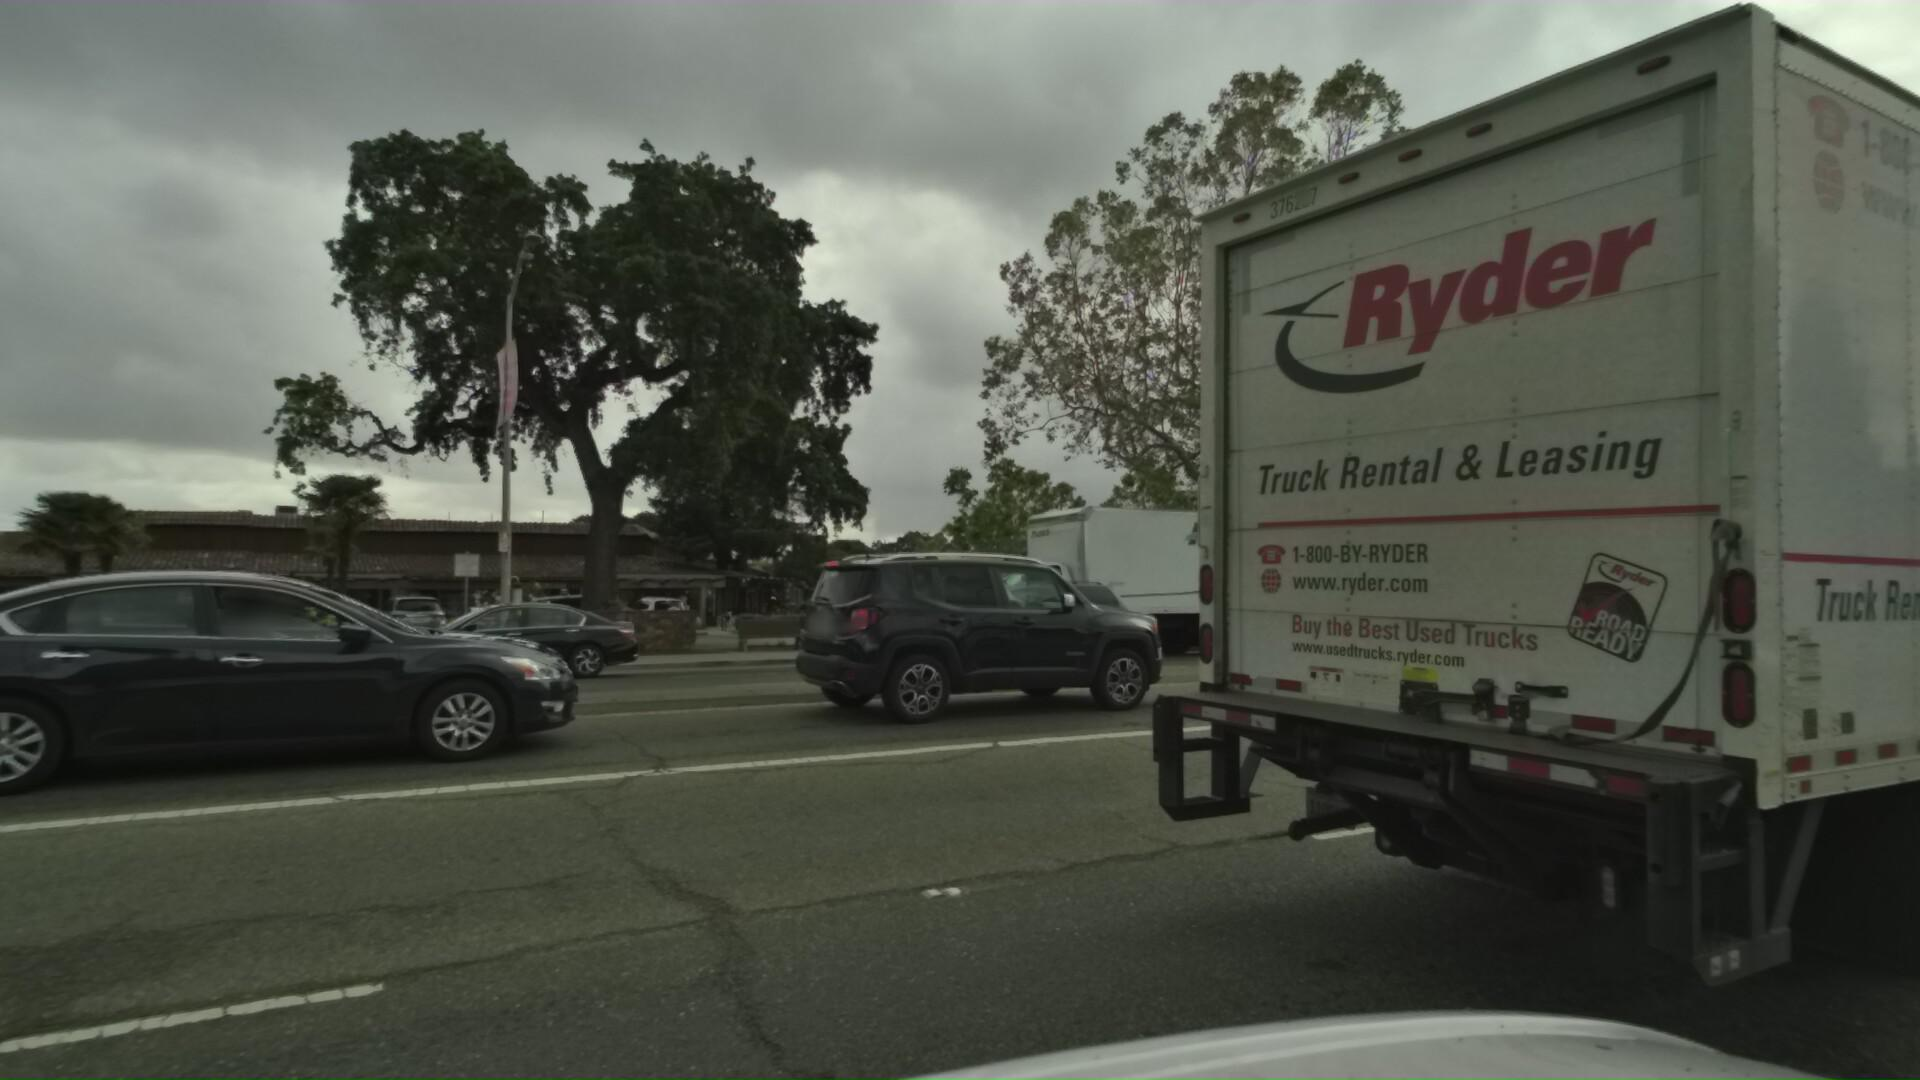car: (0, 535, 558, 829), (742, 527, 1171, 735), (828, 574, 1098, 680), (319, 593, 615, 691)
truck: (1155, 0, 1920, 1080), (893, 481, 1302, 669), (1859, 546, 1920, 651)
